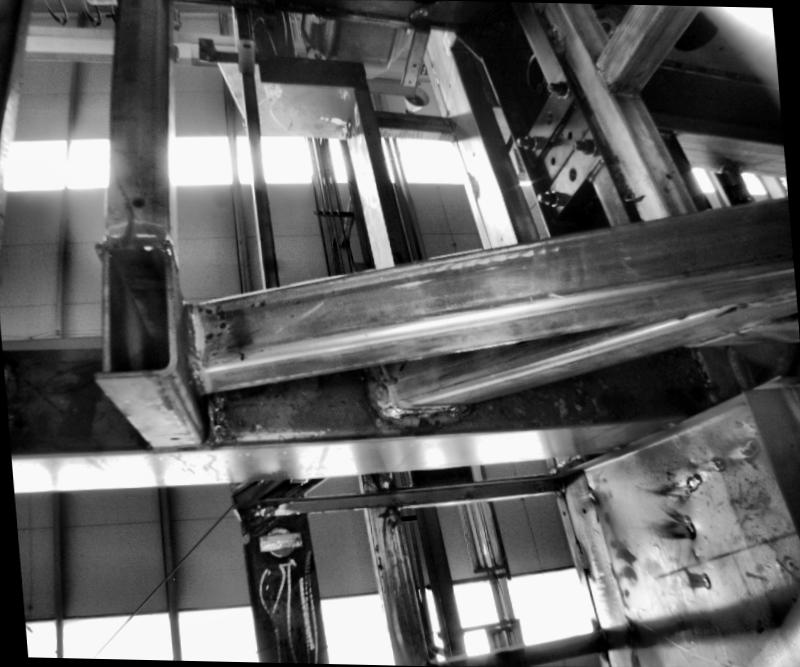bolt: (542, 78, 568, 100), (568, 139, 598, 156), (532, 190, 556, 207), (512, 136, 535, 150)
bracket: (508, 72, 613, 220), (396, 6, 435, 91), (235, 30, 256, 78)
hole: (128, 196, 148, 213), (540, 112, 554, 126), (566, 168, 576, 182), (166, 436, 178, 444), (546, 156, 554, 166), (565, 132, 572, 142), (662, 173, 670, 181), (241, 44, 249, 51), (410, 63, 416, 70), (580, 508, 586, 514), (406, 80, 411, 84), (560, 510, 564, 515), (472, 152, 474, 156), (499, 238, 502, 240), (446, 84, 448, 86)
welding: (374, 404, 463, 420), (182, 307, 204, 371), (369, 366, 395, 417), (573, 541, 587, 573), (428, 66, 439, 86)
